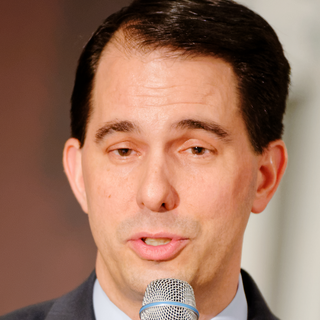eye: (176, 138, 221, 162), (102, 139, 144, 162)
